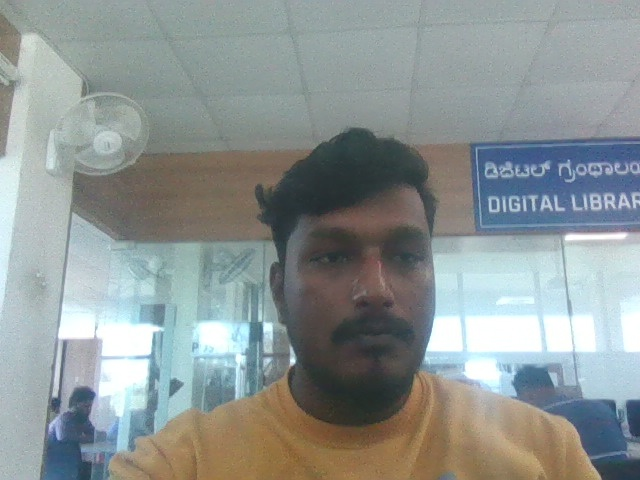real: (251, 111, 464, 413)
